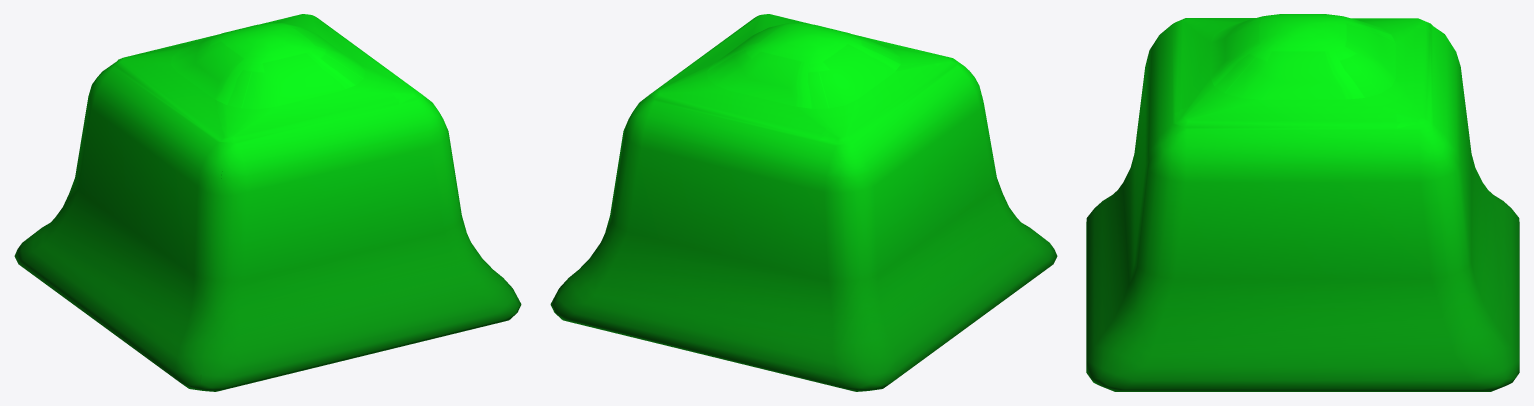
3 renders of one model, left to right at view 1: azimuth 30°, elevation 25°; view 2: azimuth 150°, elevation 25°; view 3: azimuth 270°, elevation 25°, orthographic. The views are drawn at different scales.
Visible parts, largest first — view 1: Cube.005_Baked; view 2: Cube.005_Baked; view 3: Cube.005_Baked.
Boxes of the visible parts, box(x1,y1,x2,y2) form: Cube.005_Baked: box(14, 14, 521, 391); Cube.005_Baked: box(550, 14, 1057, 391); Cube.005_Baked: box(1086, 14, 1519, 391).
Bounding box in the file's own units: 163 × 116 × 163.
1 material, 1 textured.
